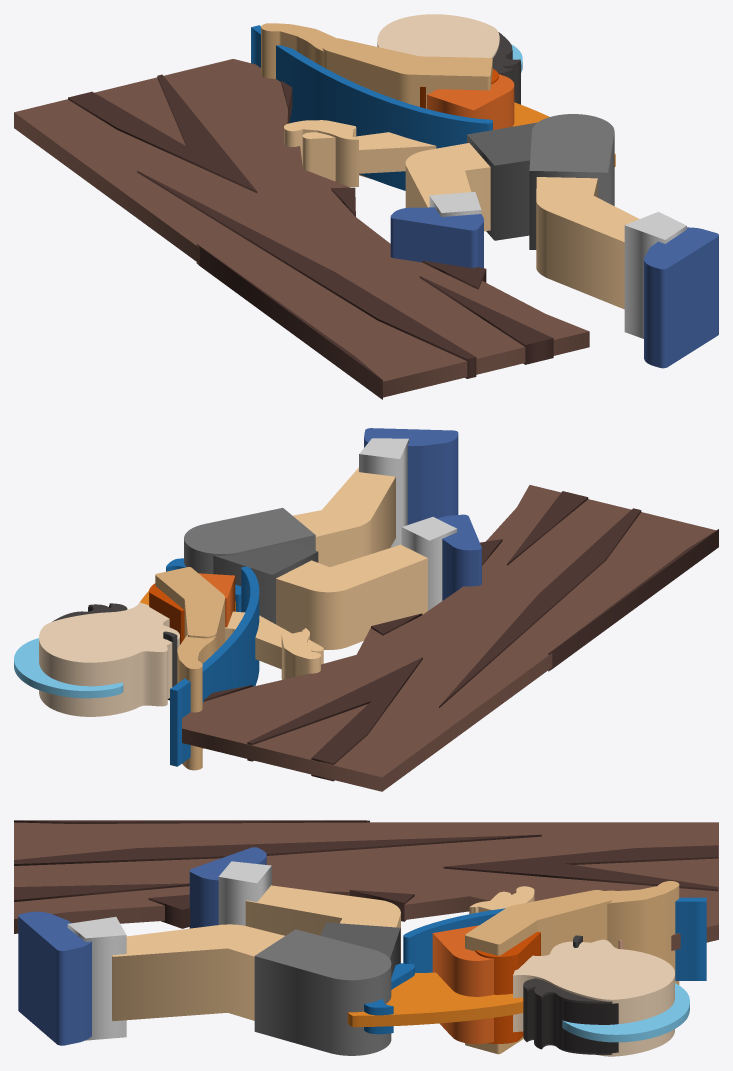
File: emoji_u1f9d7_1f3fb.glb
3 views of the same model, one above another, from view 1: azimuth 30°, elevation 25°; view 2: azimuth 150°, elevation 25°; view 3: azimuth 270°, elevation 25° (orthographic). The views are drawn at different scales.
Visible parts, largest first — view 1: emoji_u1f9d7_1f3fb; view 2: emoji_u1f9d7_1f3fb; view 3: emoji_u1f9d7_1f3fb.
Part boxes in pixels (x1,y1,x2,y2): emoji_u1f9d7_1f3fb: [14, 14, 718, 399]; emoji_u1f9d7_1f3fb: [14, 428, 718, 791]; emoji_u1f9d7_1f3fb: [14, 820, 718, 1056].
Size of the model in its own units: 0.0237 by 0.0058 by 0.0338.
